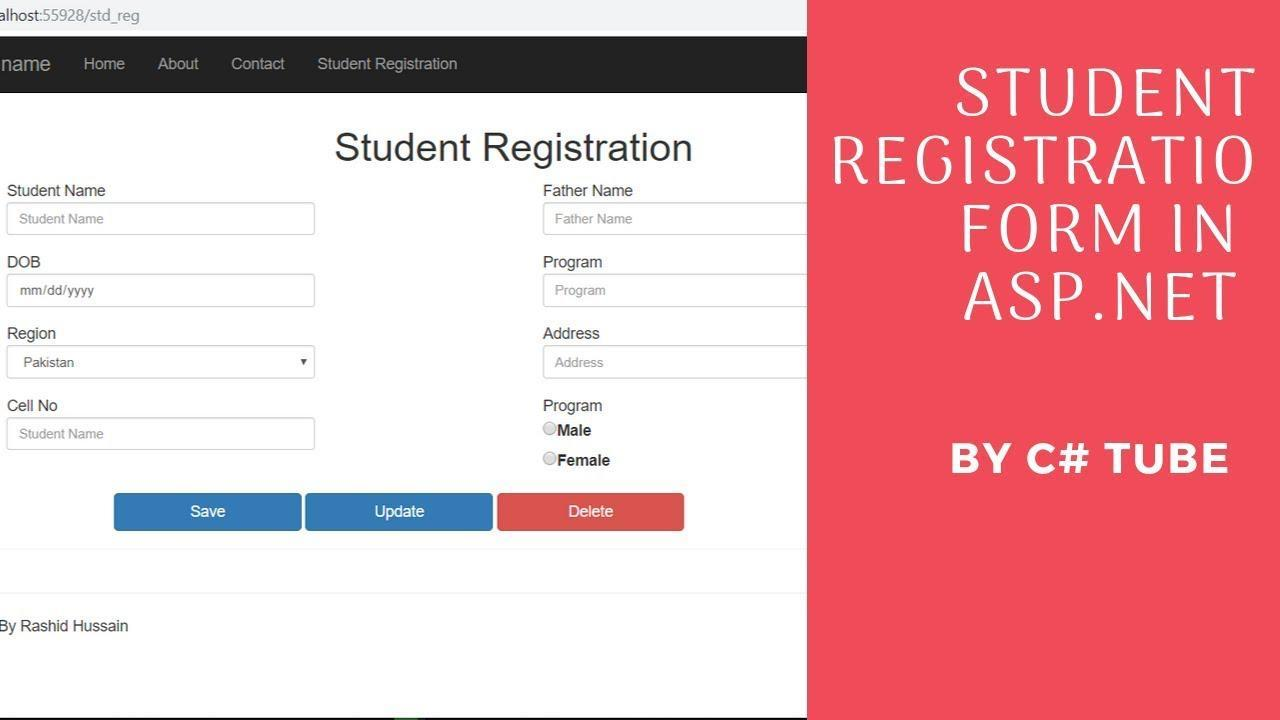button: (114, 492, 304, 533), (498, 493, 685, 533), (307, 494, 494, 533)
checkbox: (543, 452, 557, 468), (543, 421, 555, 437)
dropdown: (7, 345, 317, 380)
input: (5, 417, 317, 452), (542, 343, 815, 383), (6, 273, 317, 308), (540, 272, 814, 311), (6, 202, 318, 236), (542, 200, 809, 239)
label: (332, 132, 696, 167), (7, 183, 107, 200), (540, 398, 610, 417), (544, 185, 635, 198), (559, 451, 613, 470), (543, 255, 604, 271), (8, 398, 60, 415), (540, 326, 602, 340), (7, 326, 58, 342), (558, 422, 593, 438), (8, 255, 43, 269)
